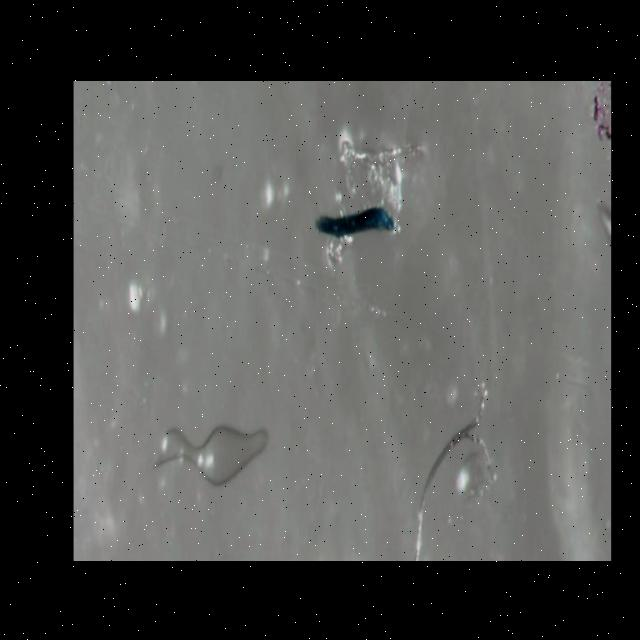Fibre: (312, 200, 398, 244)
